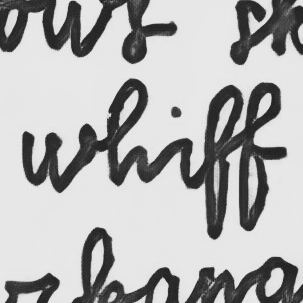f: (236, 80, 283, 234), (200, 83, 245, 241)
h: (103, 76, 157, 188)
i: (166, 104, 195, 192)
w: (18, 120, 99, 195)
